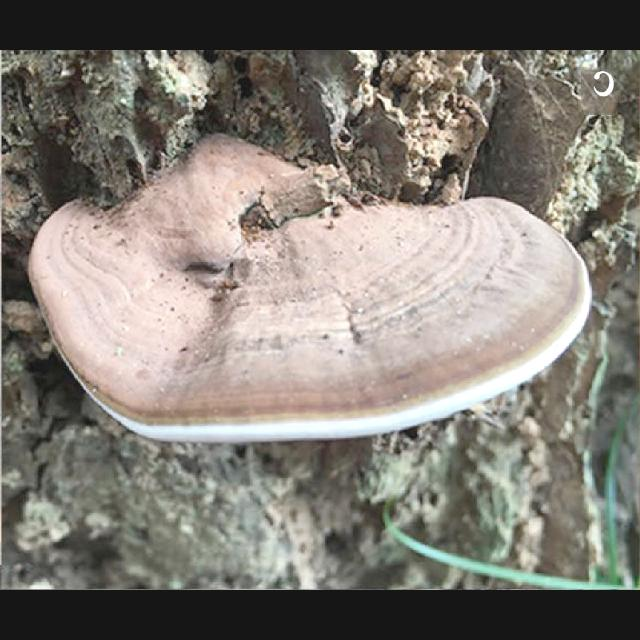ganoderma: (24, 131, 593, 447)
